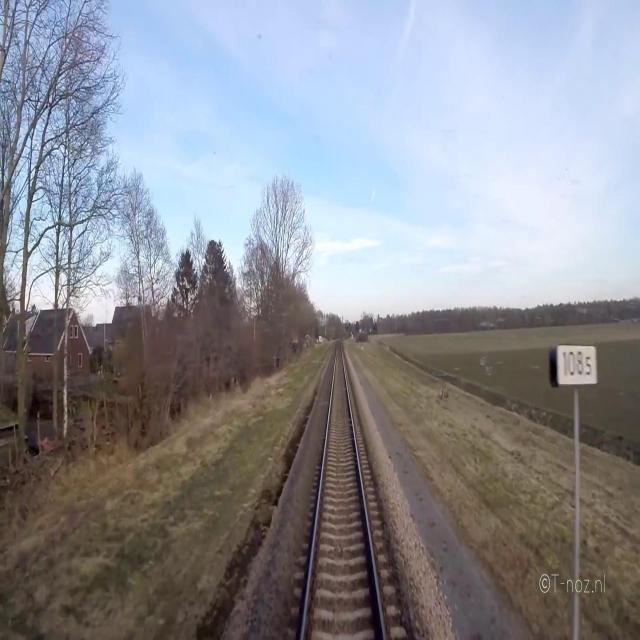rail-track: (305, 344, 382, 639)
